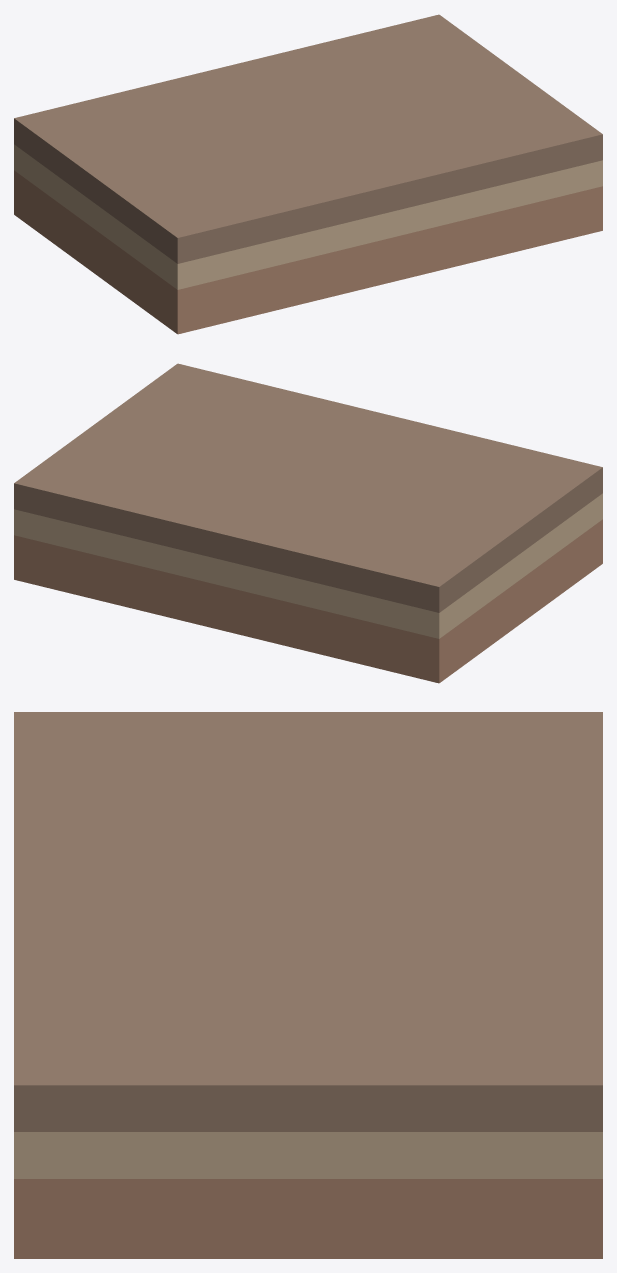
File: invbench-p03-phe-biofouling156ae5155c73.glb
3 renders of one model, top to bottom at view 1: azimuth 30°, elevation 25°; view 2: azimuth 150°, elevation 25°; view 3: azimuth 270°, elevation 25°, orthographic. The views are drawn at different scales.
Visible parts, largest first — view 1: layer 3: interface, layer 1: form, layer 2: mechanism layer; view 2: layer 3: interface, layer 1: form, layer 2: mechanism layer; view 3: layer 3: interface, layer 1: form, layer 2: mechanism layer.
Boxes of the visible parts, box(x1,y1,x2,y2) form: layer 3: interface: box(14, 14, 602, 263); layer 1: form: box(14, 170, 602, 334); layer 2: mechanism layer: box(14, 144, 602, 289); layer 3: interface: box(14, 363, 602, 612); layer 1: form: box(14, 519, 602, 683); layer 2: mechanism layer: box(14, 493, 602, 638); layer 3: interface: box(14, 712, 602, 1131); layer 1: form: box(14, 1179, 602, 1258); layer 2: mechanism layer: box(14, 1132, 602, 1178).
Size of the model in its own units: 6 by 1.3 by 4.
